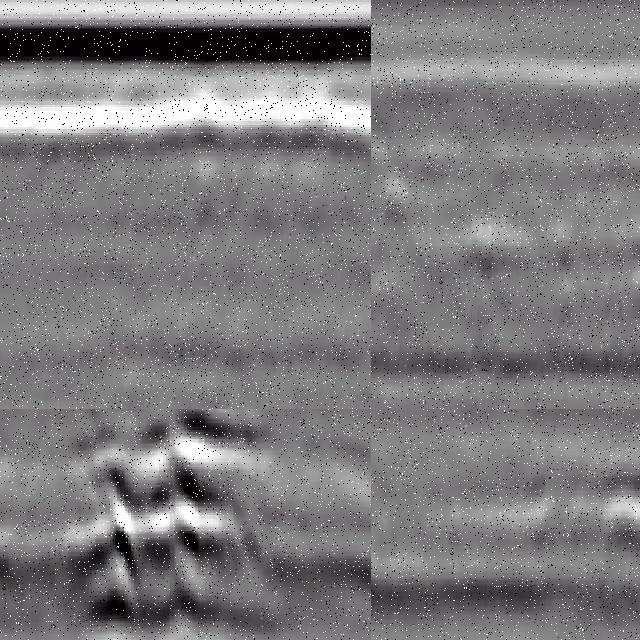loose: (67, 410, 267, 640), (1, 106, 50, 289), (562, 461, 640, 551)
